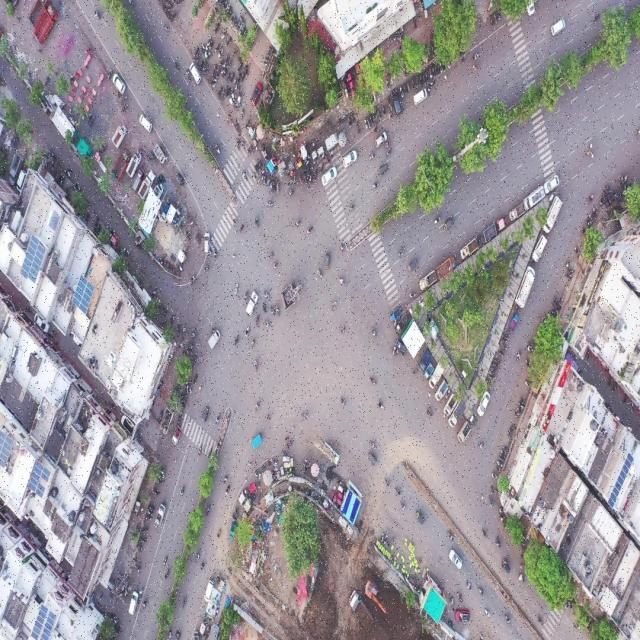3W: (249, 433, 264, 451), (501, 556, 511, 579), (174, 170, 187, 187), (201, 403, 211, 424), (407, 255, 419, 272), (442, 217, 455, 232), (377, 162, 390, 176), (414, 509, 425, 525), (367, 452, 378, 468), (323, 250, 331, 269)
Cars: (531, 233, 549, 266), (242, 291, 260, 320), (548, 16, 570, 36), (391, 87, 404, 119), (249, 82, 264, 108), (321, 166, 337, 189), (206, 330, 222, 353), (110, 73, 126, 96), (447, 549, 463, 571), (544, 173, 561, 193), (137, 114, 153, 135), (127, 588, 138, 618), (203, 576, 215, 603), (478, 390, 489, 418), (414, 88, 428, 109), (343, 148, 357, 169), (190, 62, 201, 84), (455, 608, 471, 622), (374, 132, 387, 149), (203, 231, 210, 257)
LCV: (32, 6, 55, 50), (515, 266, 537, 305), (543, 194, 563, 234), (524, 184, 544, 212), (138, 170, 156, 199), (436, 253, 456, 279), (418, 270, 438, 294), (449, 401, 465, 427), (322, 441, 339, 464), (111, 123, 127, 147), (459, 239, 477, 259), (126, 152, 141, 176), (507, 201, 525, 220), (429, 363, 442, 389), (509, 310, 521, 334), (153, 141, 166, 163), (395, 314, 408, 336), (435, 380, 447, 403), (155, 504, 166, 529), (458, 422, 473, 440), (419, 352, 432, 372), (395, 338, 407, 356), (423, 363, 434, 381), (172, 426, 182, 445), (390, 306, 400, 322)
M2W: (238, 165, 252, 187), (472, 47, 484, 64), (212, 138, 222, 158), (162, 20, 173, 38), (500, 612, 515, 625), (583, 192, 596, 207), (535, 614, 547, 630), (475, 437, 486, 454), (264, 197, 275, 213), (92, 9, 105, 21), (306, 219, 313, 241), (477, 583, 486, 600), (242, 321, 250, 340), (425, 407, 435, 422), (300, 410, 310, 425), (201, 259, 211, 274), (337, 276, 346, 292), (337, 398, 349, 410), (368, 435, 377, 451), (253, 213, 261, 231), (222, 469, 231, 485), (493, 532, 502, 548), (483, 606, 492, 622), (269, 261, 282, 272), (464, 578, 474, 592), (394, 481, 402, 498), (232, 335, 241, 350), (455, 589, 464, 604), (253, 397, 261, 413), (294, 215, 302, 231), (315, 266, 323, 282), (172, 59, 180, 75), (384, 474, 390, 495), (217, 522, 223, 543), (265, 250, 277, 260), (201, 558, 208, 575), (480, 524, 486, 543), (330, 297, 337, 313), (397, 245, 404, 261), (253, 356, 260, 372), (398, 500, 407, 512), (189, 274, 198, 286), (181, 595, 188, 610), (233, 280, 239, 297), (205, 502, 212, 516), (264, 288, 270, 304), (194, 552, 202, 564), (162, 568, 170, 580), (137, 542, 143, 558), (213, 240, 217, 263), (377, 398, 384, 411), (238, 223, 245, 236), (142, 598, 149, 611), (242, 290, 249, 303), (574, 244, 581, 257), (368, 377, 377, 387), (347, 203, 356, 213), (251, 335, 257, 350), (135, 562, 141, 577), (514, 351, 522, 362), (339, 324, 346, 336), (162, 555, 169, 567), (355, 123, 361, 137), (247, 143, 253, 157), (592, 12, 601, 21), (372, 180, 381, 189), (411, 76, 416, 92), (370, 328, 376, 341), (198, 443, 204, 456), (180, 484, 186, 497), (270, 305, 276, 318), (386, 79, 392, 92), (237, 61, 243, 74), (226, 35, 232, 48), (214, 22, 220, 35), (194, 45, 200, 58), (177, 409, 182, 424), (264, 319, 270, 331), (215, 413, 221, 425), (261, 302, 267, 314), (225, 483, 231, 495), (409, 291, 417, 300), (245, 117, 251, 129), (243, 64, 249, 76), (214, 5, 220, 17), (215, 42, 221, 54), (193, 373, 198, 387), (206, 447, 212, 458), (313, 170, 318, 183), (240, 108, 245, 121), (255, 313, 259, 329), (152, 488, 160, 496), (524, 379, 531, 388), (428, 80, 435, 89), (513, 411, 519, 421), (551, 295, 556, 307), (298, 174, 303, 186), (233, 45, 239, 55), (221, 28, 226, 40), (212, 64, 217, 76), (212, 78, 218, 88), (217, 85, 223, 95), (384, 149, 392, 156), (368, 153, 376, 160), (497, 350, 504, 358), (489, 367, 497, 374), (419, 74, 423, 88), (185, 70, 190, 81), (507, 431, 512, 442), (492, 472, 498, 481), (218, 59, 224, 68), (139, 537, 148, 543), (276, 304, 280, 317), (236, 137, 240, 150), (348, 116, 352, 129), (263, 175, 267, 188), (218, 48, 223, 58), (205, 65, 210, 75), (384, 142, 391, 149), (500, 344, 507, 351), (141, 528, 148, 535), (255, 471, 262, 478), (412, 368, 418, 376), (519, 402, 525, 410), (490, 17, 494, 29), (429, 67, 433, 79), (399, 86, 403, 98), (377, 108, 381, 120), (287, 190, 293, 198), (226, 53, 230, 65), (147, 509, 153, 517), (149, 504, 155, 512), (381, 107, 386, 116), (494, 13, 498, 24), (425, 72, 429, 83), (237, 72, 241, 83), (237, 87, 241, 98), (207, 36, 211, 47), (226, 72, 230, 83), (235, 507, 239, 518), (494, 356, 500, 363), (504, 330, 510, 337), (549, 309, 556, 315), (564, 274, 570, 281), (203, 43, 209, 50), (303, 175, 307, 185), (230, 72, 234, 82), (241, 137, 244, 150), (416, 76, 419, 89), (374, 121, 377, 134), (352, 112, 355, 125), (270, 181, 273, 194), (234, 78, 237, 91), (495, 467, 501, 473), (509, 426, 515, 432), (567, 268, 573, 274), (462, 54, 465, 66), (440, 61, 443, 73), (403, 83, 406, 95), (407, 81, 410, 93), (387, 96, 390, 108), (374, 106, 377, 118), (273, 181, 276, 193), (267, 177, 270, 189), (497, 460, 502, 467), (501, 450, 508, 455), (437, 64, 440, 74), (435, 65, 438, 75), (432, 67, 435, 77), (423, 74, 426, 84), (368, 119, 371, 129), (370, 115, 373, 125), (293, 175, 296, 185)
Truck: (347, 589, 376, 635), (111, 149, 130, 180)
